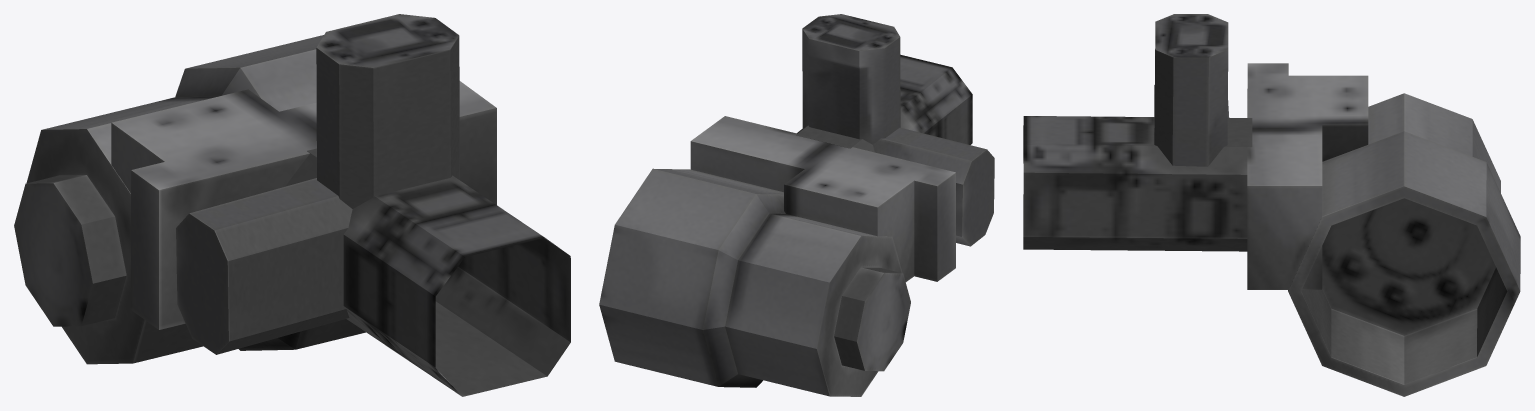
The model's file is l_clav.dae.
The picture shows the model from 3 angles, left to right: view 1: azimuth 30°, elevation 25°; view 2: azimuth 150°, elevation 25°; view 3: azimuth 270°, elevation 25°; orthographic projection. The views are drawn at different scales.
Visible parts, largest first — view 1: drc_l_clav; view 2: drc_l_clav; view 3: drc_l_clav.
Boxes of the visible parts, bbox=[...] form: drc_l_clav: bbox=[14, 14, 570, 396]; drc_l_clav: bbox=[599, 14, 994, 396]; drc_l_clav: bbox=[1023, 14, 1520, 396].
Bounding box in the file's own units: 0.116 × 0.1983 × 0.1354.
1 material, 1 textured.
